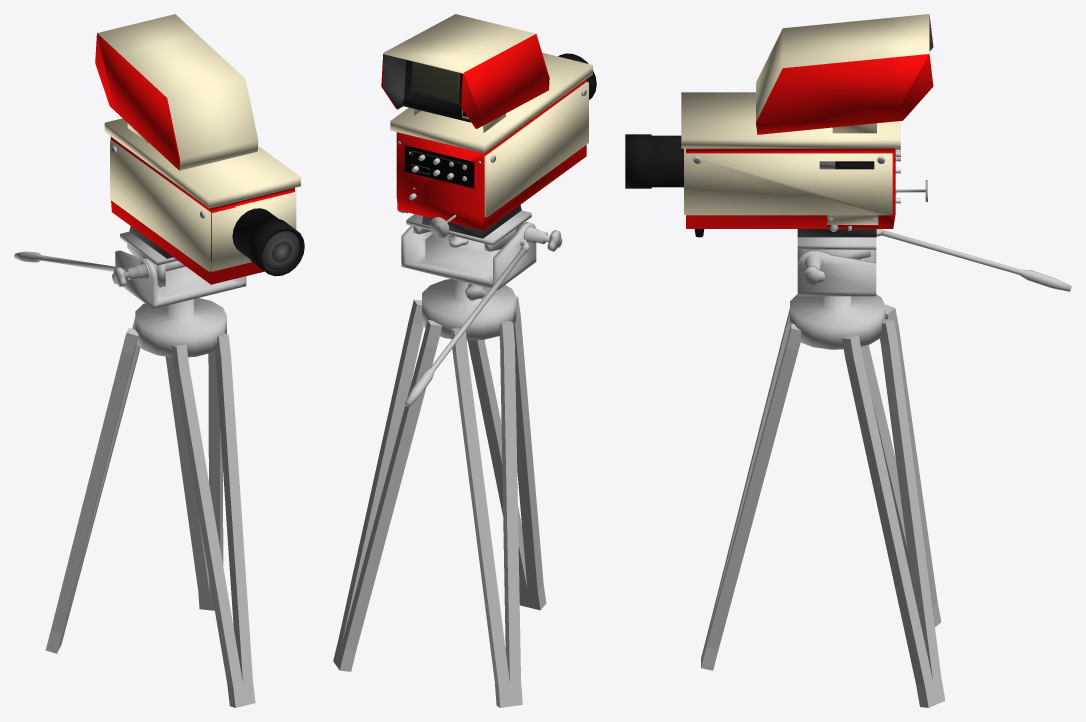
File: 70'sStudioCamera.obj
3 views of the same model, side by side, from view 1: azimuth 30°, elevation 25°; view 2: azimuth 150°, elevation 25°; view 3: azimuth 270°, elevation 25° (orthographic). The views are drawn at different scales.
Visible parts, largest first — view 1: Camera, Leg1, Tripod, Leg2, Leg3; view 2: Camera, Tripod, Leg2, Leg3, Leg1; view 3: Camera, Leg3, Tripod, Leg1, Leg2.
Part boxes in pixels (box(x1,y1,x2,y2)): Camera: box(95, 14, 304, 284); Leg1: box(172, 333, 255, 707); Tripod: box(14, 231, 246, 357); Leg2: box(45, 308, 140, 653); Leg3: box(165, 351, 223, 610); Camera: box(381, 14, 596, 238); Tripod: box(397, 206, 562, 406); Leg2: box(451, 321, 522, 707); Leg3: box(333, 299, 442, 671); Leg1: box(467, 296, 546, 610); Camera: box(625, 14, 933, 237); Leg3: box(841, 319, 945, 707); Tripod: box(790, 229, 1071, 349); Leg1: box(701, 308, 801, 670); Leg2: box(861, 304, 941, 626).
Size of the model in its own units: 4.32 by 13.76 by 8.82.
